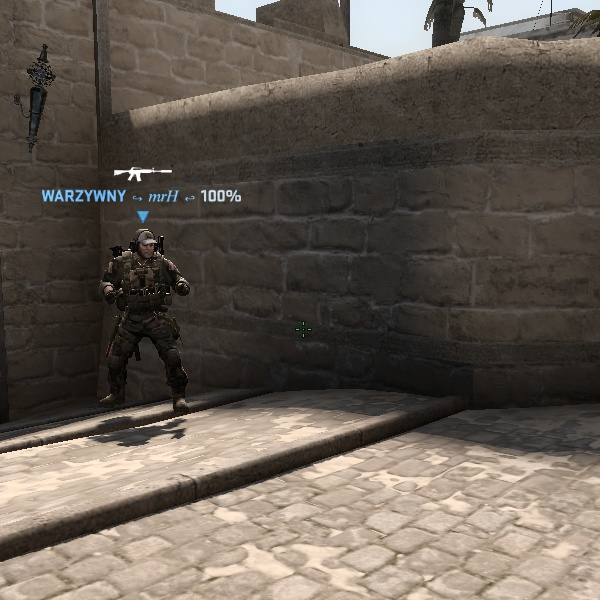ct_body: (89, 220, 203, 421)
ct_head: (125, 225, 166, 266)
